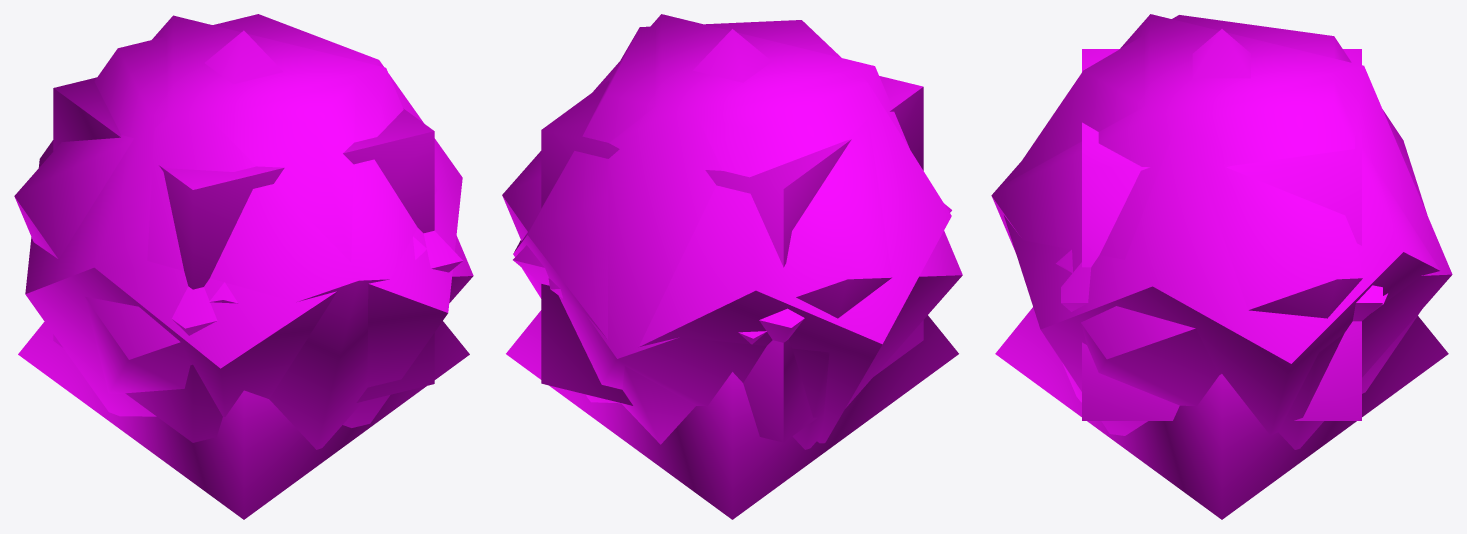
The model's file is Dice_low.FBX.
3 renders of one model, left to right at view 1: azimuth 30°, elevation 25°; view 2: azimuth 150°, elevation 25°; view 3: azimuth 270°, elevation 25°, orthographic.
Visible parts, largest first — view 1: low_12_sides, low_20_sides, low_6_sides, low_4_sides, low_8_sides; view 2: low_12_sides, low_20_sides, low_6_sides, low_4_sides, low_8_sides; view 3: low_12_sides, low_20_sides, low_4_sides, low_6_sides, low_8_sides.
Part boxes in pixels (left/top/right/bottom): low_12_sides: left=25, top=14, right=462, bottom=427; low_20_sides: left=14, top=15, right=473, bottom=449; low_6_sides: left=53, top=77, right=434, bottom=442; low_4_sides: left=18, top=321, right=469, bottom=519; low_8_sides: left=172, top=30, right=462, bottom=335; low_12_sides: left=513, top=20, right=951, bottom=444; low_20_sides: left=502, top=14, right=962, bottom=449; low_6_sides: left=541, top=76, right=923, bottom=442; low_4_sides: left=506, top=310, right=958, bottom=519; low_8_sides: left=513, top=29, right=951, bottom=342; low_12_sides: left=1004, top=15, right=1440, bottom=435; low_20_sides: left=991, top=14, right=1452, bottom=449; low_4_sides: left=995, top=307, right=1448, bottom=519; low_6_sides: left=1082, top=49, right=1361, bottom=420; low_8_sides: left=1061, top=29, right=1382, bottom=321.
Bounding box in the file's own units: 0.0241 × 0.0231 × 0.0234.
